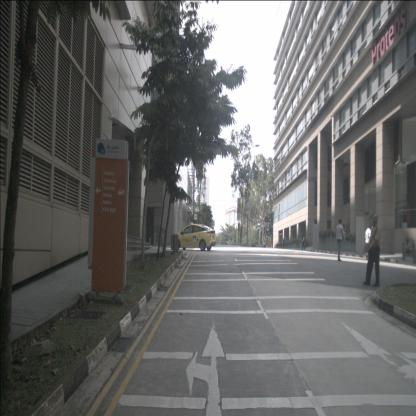human-pedestrian-adult: (363, 214, 381, 287), (336, 219, 346, 261), (365, 224, 372, 260), (302, 234, 306, 250), (282, 238, 284, 248)
vehicle-car: (173, 224, 216, 250)
